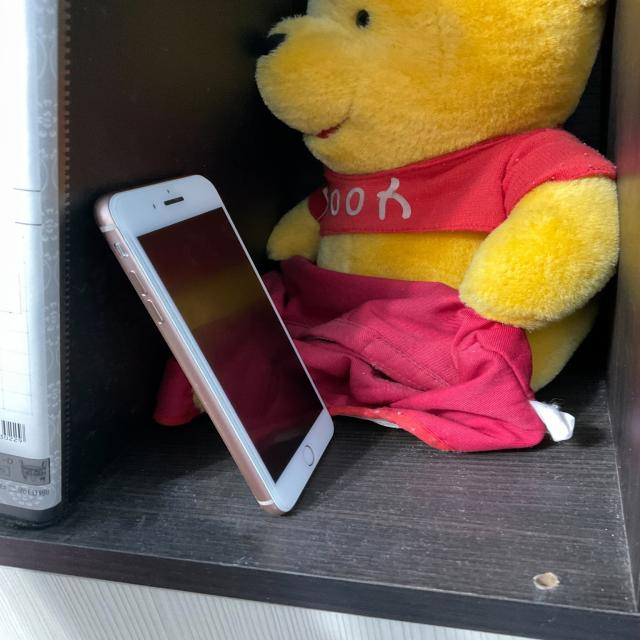phone: (64, 135, 369, 552)
